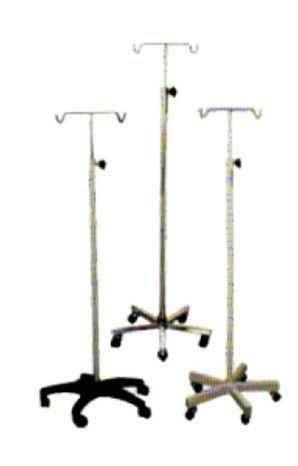Saline Stand: (39, 108, 151, 428), (109, 39, 212, 361), (183, 104, 282, 425)
